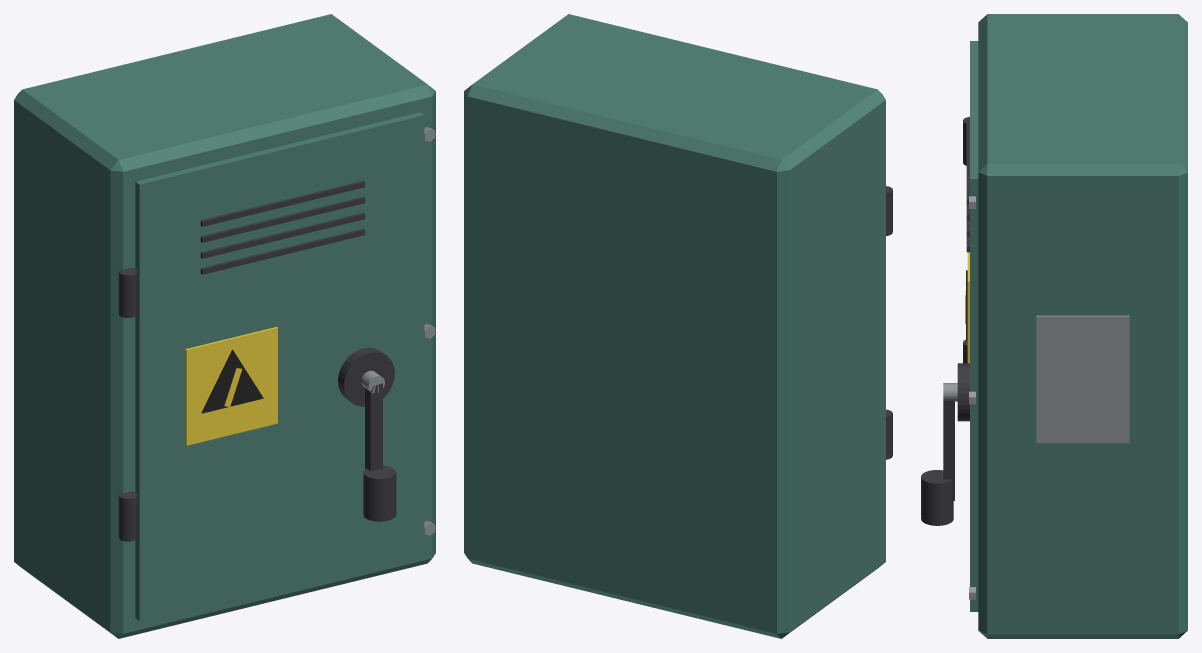
File: power box.fbx
3 views of the same model, side by side, from view 1: azimuth 30°, elevation 25°; view 2: azimuth 150°, elevation 25°; view 3: azimuth 270°, elevation 25° (orthographic).
Visible parts, largest first — view 1: Cabinet_Door_Panel, Cabinet_Body, Cabinet_Hazard_Sign, Cabinet_Operating_Lever, Cabinet_Lever_Housing, Cabinet_Sign_Symbol, Cabinet_Vent_Slot.002, Cabinet_Vent_Slot.001, Cabinet_Vent_Slot.003, Cabinet_Vent_Slot, Cabinet_Hinge.001, Cabinet_Hinge; view 2: Cabinet_Body; view 3: Cabinet_Body, Cabinet_Side_SerialPlate, Cabinet_Door_Panel, Cabinet_Operating_Lever, Cabinet_Lever_Housing.
Part boxes in pixels (bbox=[...]): Cabinet_Door_Panel: bbox=[135, 112, 424, 620]; Cabinet_Body: bbox=[14, 14, 435, 638]; Cabinet_Hazard_Sign: bbox=[185, 327, 277, 445]; Cabinet_Operating_Lever: bbox=[361, 370, 396, 521]; Cabinet_Lever_Housing: bbox=[338, 347, 394, 406]; Cabinet_Sign_Symbol: bbox=[201, 349, 263, 413]; Cabinet_Vent_Slot.002: bbox=[200, 212, 364, 258]; Cabinet_Vent_Slot.001: bbox=[200, 196, 364, 242]; Cabinet_Vent_Slot.003: bbox=[200, 228, 364, 274]; Cabinet_Vent_Slot: bbox=[200, 180, 364, 226]; Cabinet_Hinge.001: bbox=[118, 268, 137, 317]; Cabinet_Hinge: bbox=[118, 491, 137, 541]; Cabinet_Body: bbox=[464, 14, 885, 638]; Cabinet_Body: bbox=[978, 14, 1187, 638]; Cabinet_Side_SerialPlate: bbox=[1036, 315, 1129, 443]; Cabinet_Door_Panel: bbox=[970, 41, 978, 611]; Cabinet_Operating_Lever: bbox=[921, 383, 957, 525]; Cabinet_Lever_Housing: bbox=[957, 363, 969, 421].
Bounding box in the file's own units: 32.2 × 45 × 22.9.
